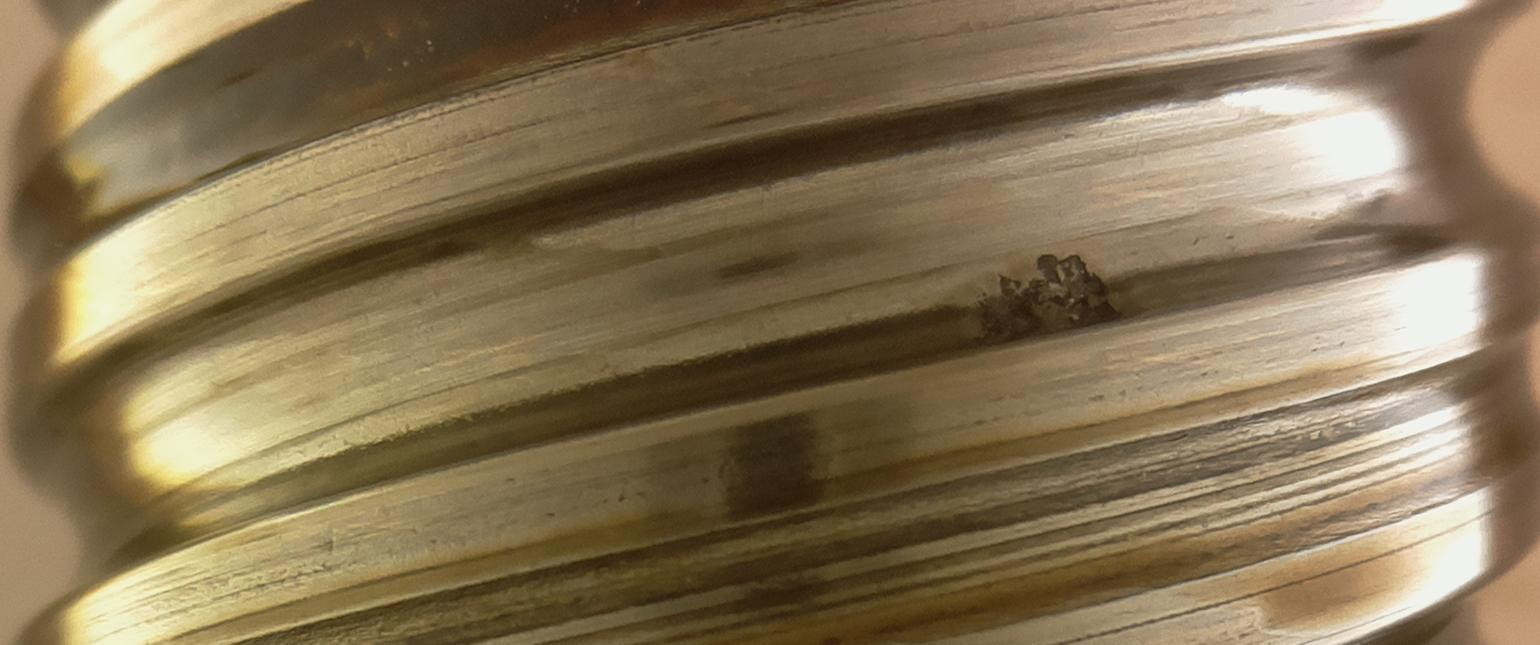pitting: (974, 254, 1125, 345)
